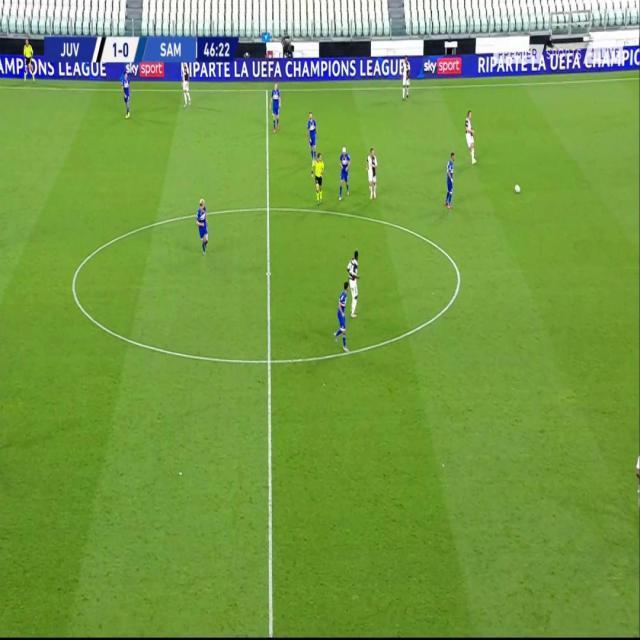ball: (514, 182, 522, 196)
player: (333, 283, 350, 354), (443, 150, 460, 214), (197, 198, 214, 258), (338, 145, 354, 205), (347, 251, 361, 319), (365, 147, 381, 204), (465, 110, 479, 168), (179, 61, 193, 110), (270, 84, 283, 135), (399, 57, 413, 102), (121, 70, 133, 121), (307, 112, 319, 162)
referee: (21, 38, 37, 86), (312, 154, 326, 207)
